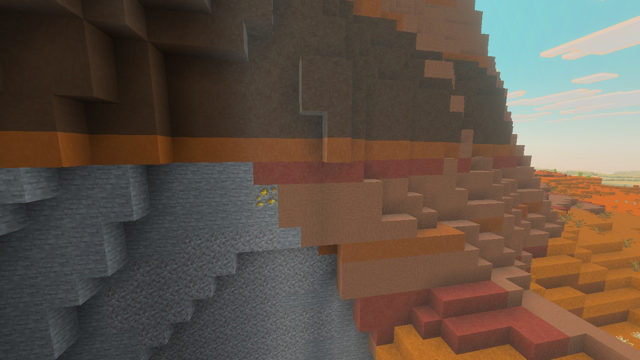gold: (252, 183, 281, 211)
